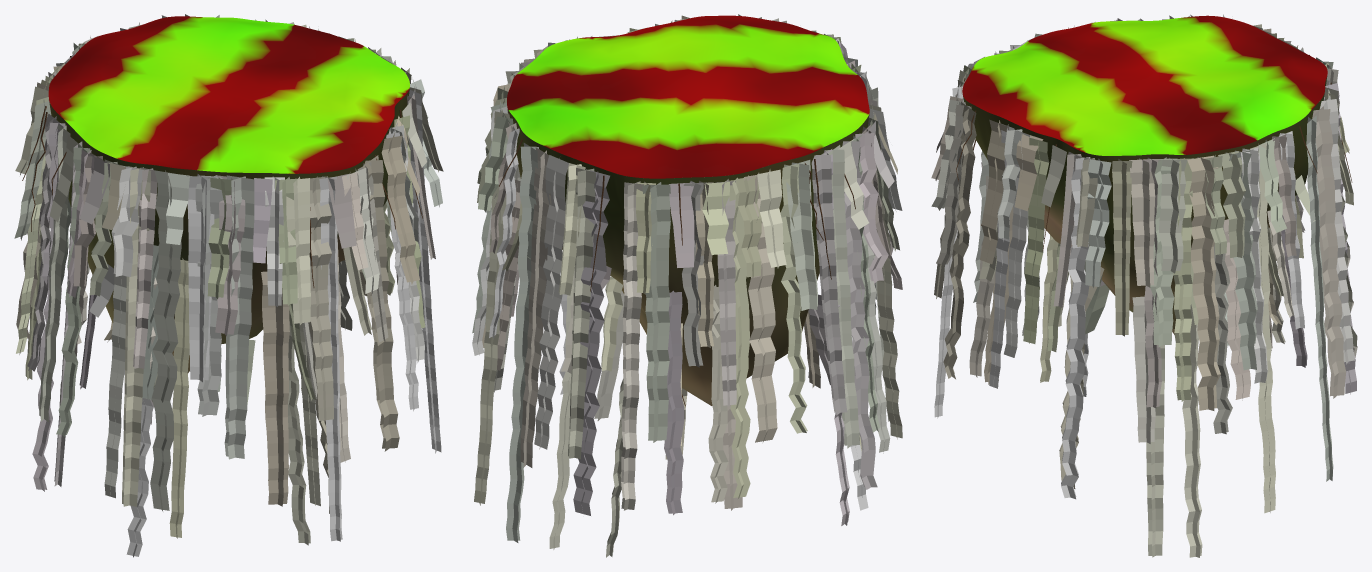
Rendered from SM_H07_Floater03.fbx.
3 renders of one model, left to right at view 1: azimuth 30°, elevation 25°; view 2: azimuth 150°, elevation 25°; view 3: azimuth 270°, elevation 25°, orthographic. The views are drawn at different scales.
Visible parts, largest first — view 1: SM_H07_Floater03_Ivy, SM_H07_Floater03; view 2: SM_H07_Floater03_Ivy, SM_H07_Floater03; view 3: SM_H07_Floater03_Ivy, SM_H07_Floater03.
Part boxes in pixels (x1=…): SM_H07_Floater03_Ivy: x1=14, y1=14, x2=443, y2=557; SM_H07_Floater03: x1=48, y1=16, x2=409, y2=373; SM_H07_Floater03_Ivy: x1=472, y1=14, x2=902, y2=557; SM_H07_Floater03: x1=507, y1=15, x2=869, y2=405; SM_H07_Floater03_Ivy: x1=931, y1=14, x2=1357, y2=557; SM_H07_Floater03: x1=962, y1=15, x2=1327, y2=334.
Bounding box in the file's own units: 29.42 × 36.96 × 31.99.
